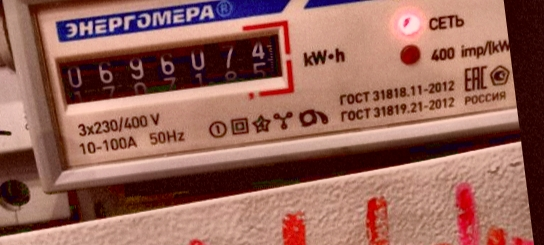0: (63, 62, 85, 90), (188, 44, 207, 72)
4: (249, 36, 268, 62)
5: (252, 60, 269, 79)
6: (95, 56, 117, 86), (157, 50, 177, 76)
7: (217, 41, 238, 69)
9: (125, 54, 147, 81)
screen: (42, 14, 302, 126)
